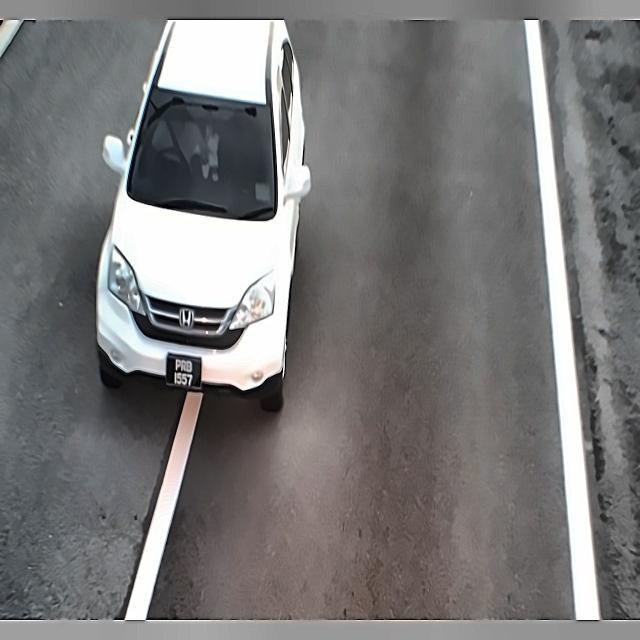car: (162, 348, 203, 395)
